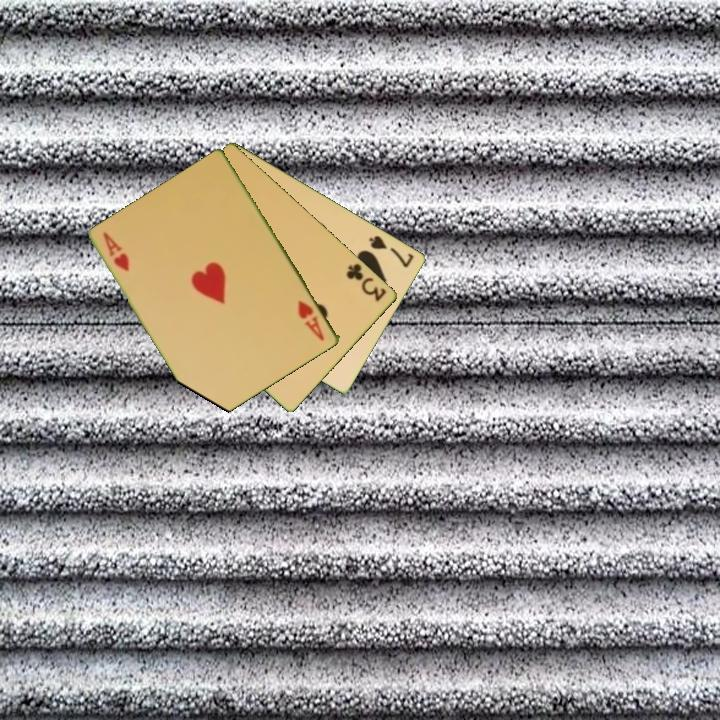3c: (343, 260, 389, 305)
7s: (366, 232, 417, 270)
Ah: (294, 297, 328, 344), (100, 228, 133, 274)
